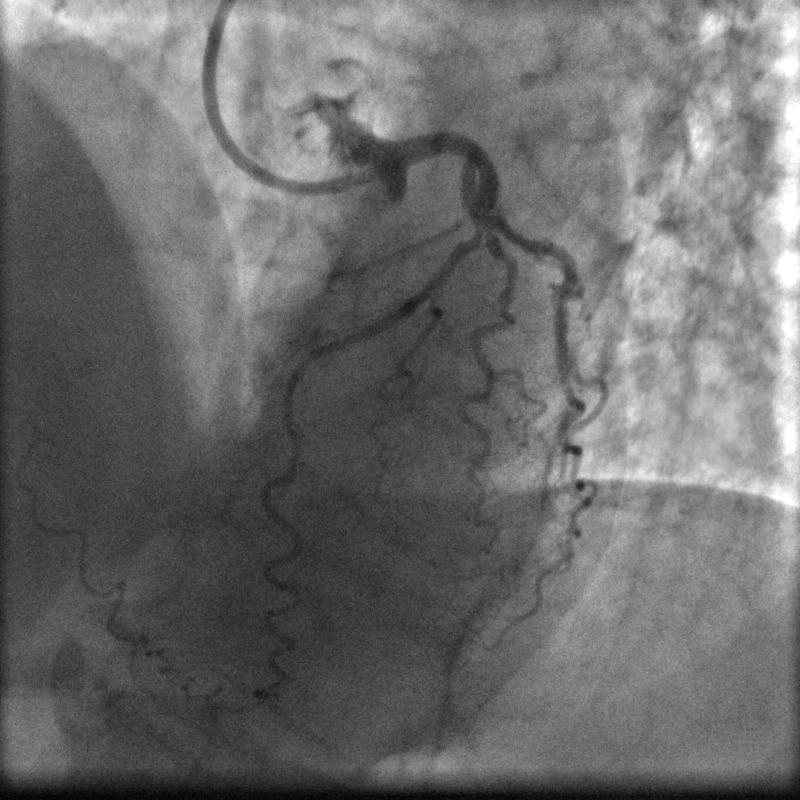Stenosis: (469, 218, 498, 245)
